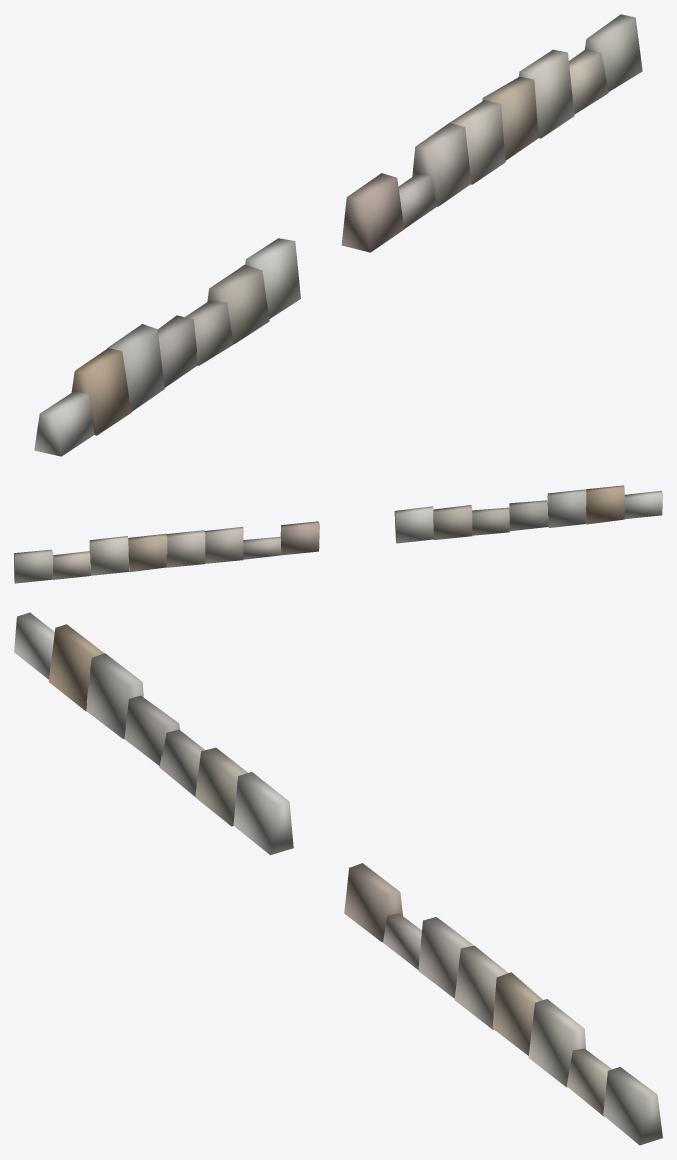
Rendered from farm_-9_-12_far.glb.
3 renders of one model, top to bottom at view 1: azimuth 30°, elevation 25°; view 2: azimuth 150°, elevation 25°; view 3: azimuth 270°, elevation 25°, orthographic. The views are drawn at different scales.
Parts seen in each view (by area): view 1: geometry_0; view 2: geometry_0; view 3: geometry_0.
Boxes of the visible parts, x1,y1,x2,y2 form: geometry_0: [34, 14, 642, 456]; geometry_0: [14, 485, 662, 583]; geometry_0: [14, 612, 662, 1145].
Bounding box in the file's own units: 22.71 × 3.6 × 15.27.
